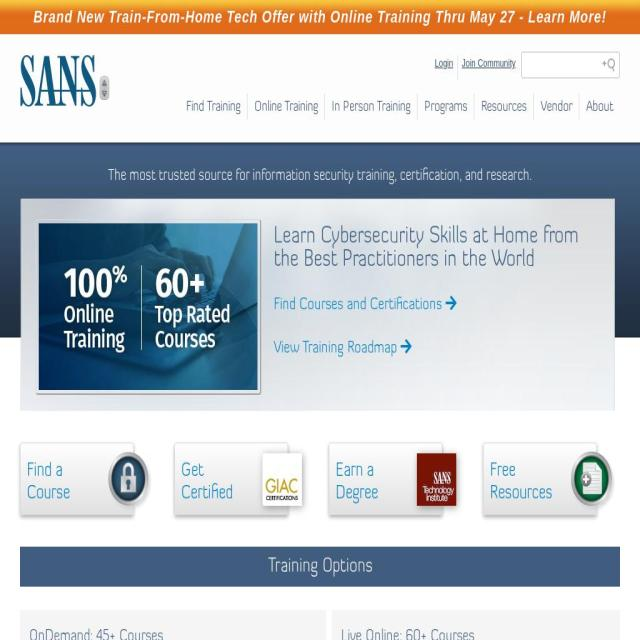button: (325, 93, 417, 120), (247, 93, 325, 120), (180, 93, 248, 120), (474, 93, 534, 120), (461, 54, 520, 80), (418, 93, 474, 120), (534, 93, 579, 120), (580, 93, 620, 120), (434, 54, 458, 80), (99, 76, 110, 100)
field: (521, 52, 620, 78)
heading: (274, 225, 586, 272), (26, 555, 614, 578), (20, 167, 620, 186), (29, 626, 316, 640), (341, 626, 610, 640), (274, 297, 446, 313), (274, 340, 401, 357), (490, 484, 552, 504), (181, 484, 233, 504), (27, 484, 70, 504), (336, 484, 378, 504), (336, 462, 374, 481), (27, 462, 62, 481), (490, 462, 516, 481), (181, 462, 204, 481)
image: (38, 223, 257, 389), (108, 505, 152, 517), (571, 505, 615, 517), (262, 497, 302, 508), (417, 497, 456, 508)
link: (33, 7, 606, 26)
